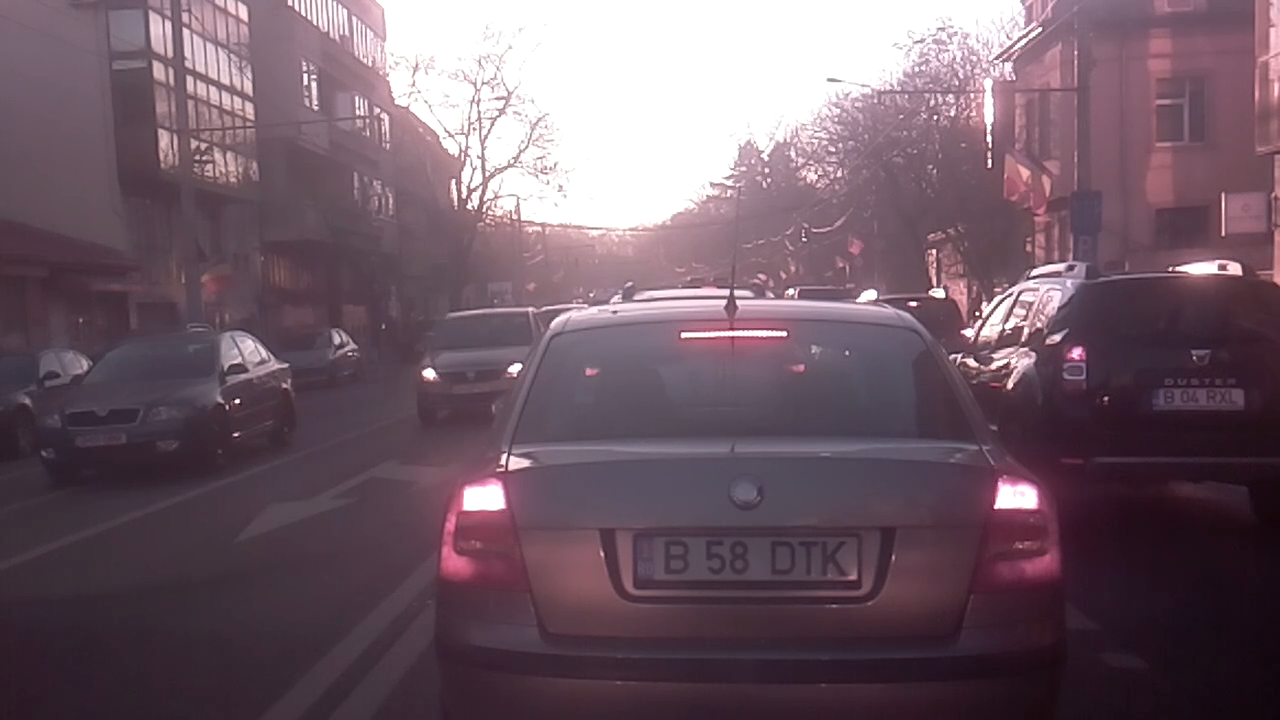license-plate: (628, 527, 870, 594), (1147, 384, 1248, 412)
